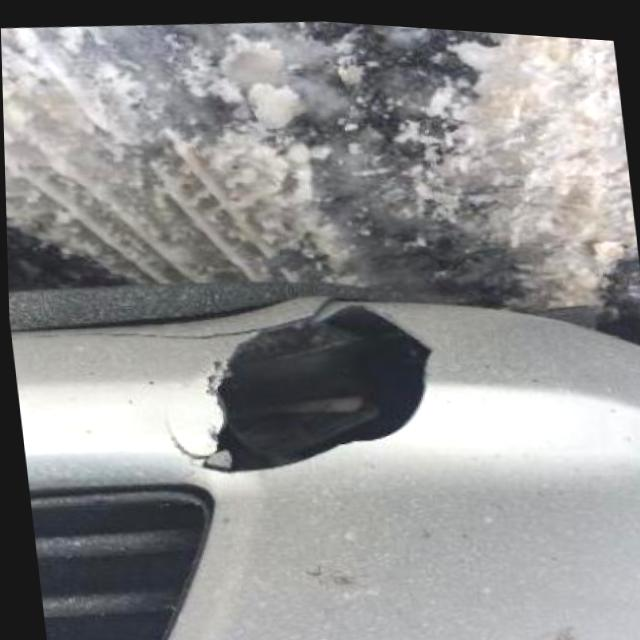Crack: (157, 299, 445, 480)
Scratch: (65, 304, 314, 343)
